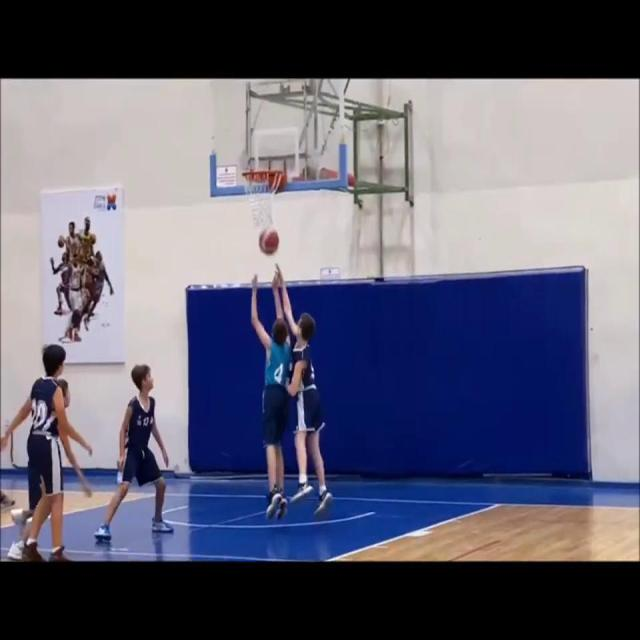basketball: (259, 227, 280, 255)
hoop: (239, 168, 286, 232)
